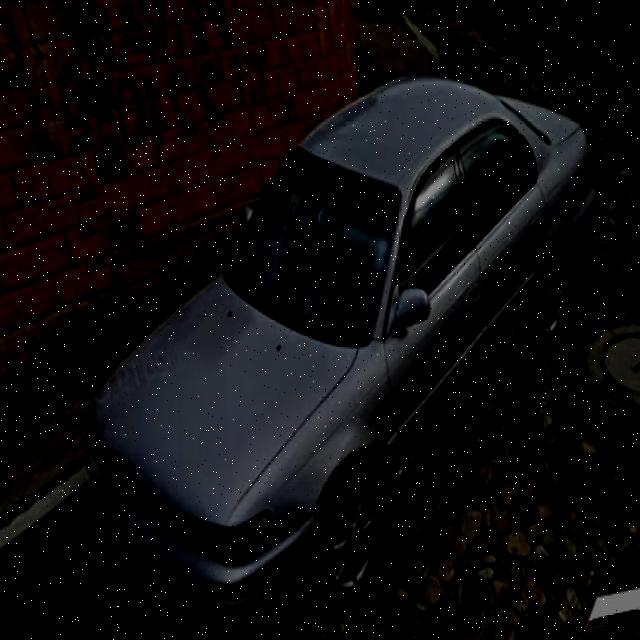car: (84, 82, 612, 640)
